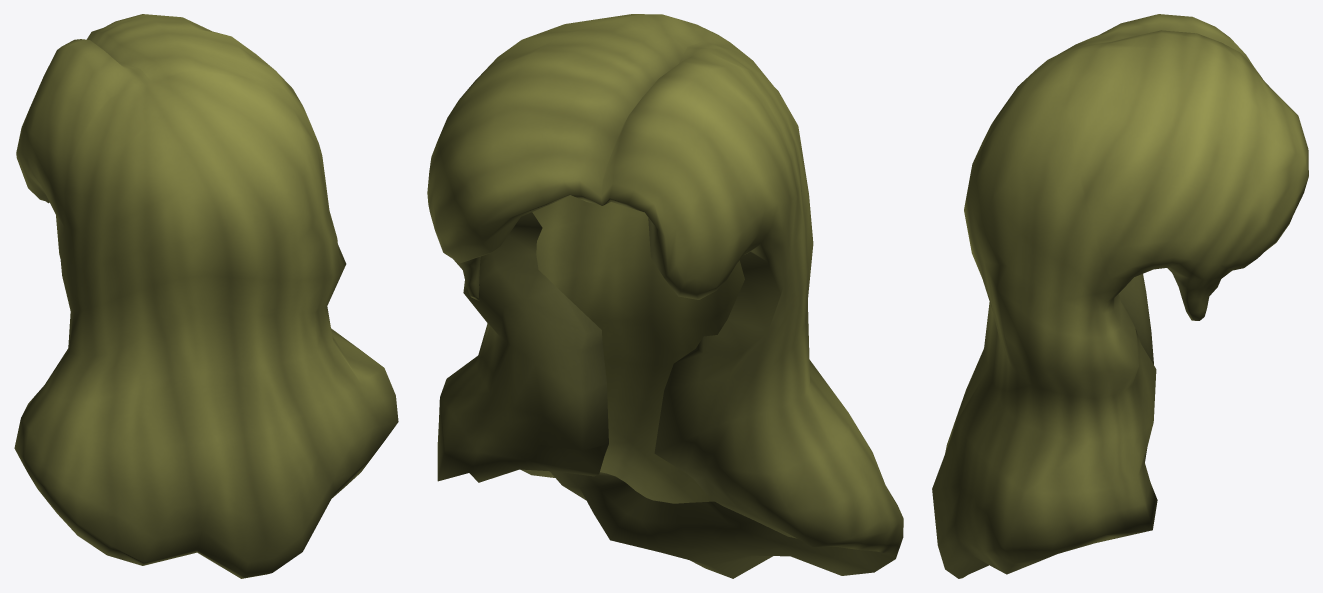
Rendered from Hair_Female_003_textured_yellow.glb.
The picture shows the model from 3 angles, left to right: view 1: azimuth 30°, elevation 25°; view 2: azimuth 150°, elevation 25°; view 3: azimuth 270°, elevation 25°; orthographic projection. The views are drawn at different scales.
Parts seen in each view (by area): view 1: Hair_Female_003; view 2: Hair_Female_003; view 3: Hair_Female_003.
Boxes of the visible parts, box(x1,y1,x2,y2) form: Hair_Female_003: box(14, 14, 398, 578); Hair_Female_003: box(427, 14, 903, 578); Hair_Female_003: box(932, 14, 1308, 578).
Size of the model in its own units: 0.2864 by 0.3854 by 0.2514.
Materials: 1 (1 with a texture image).
